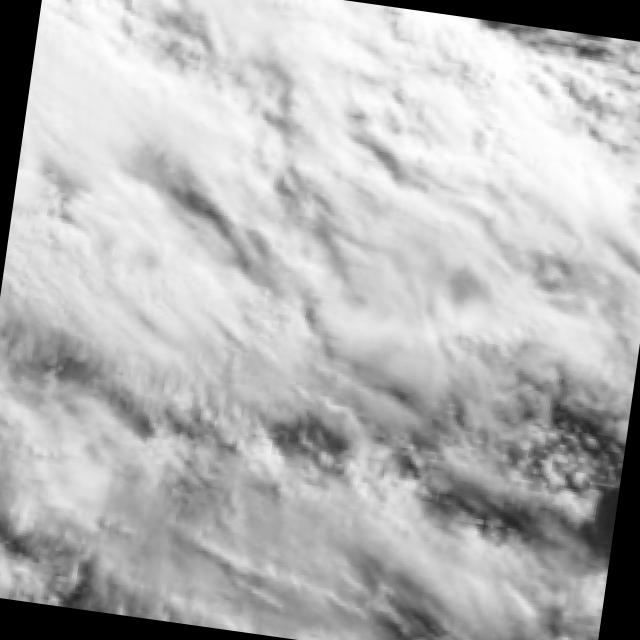CB: (254, 0, 500, 222), (0, 138, 234, 365), (222, 173, 441, 394), (21, 0, 290, 177), (433, 106, 640, 262), (0, 370, 170, 536)
